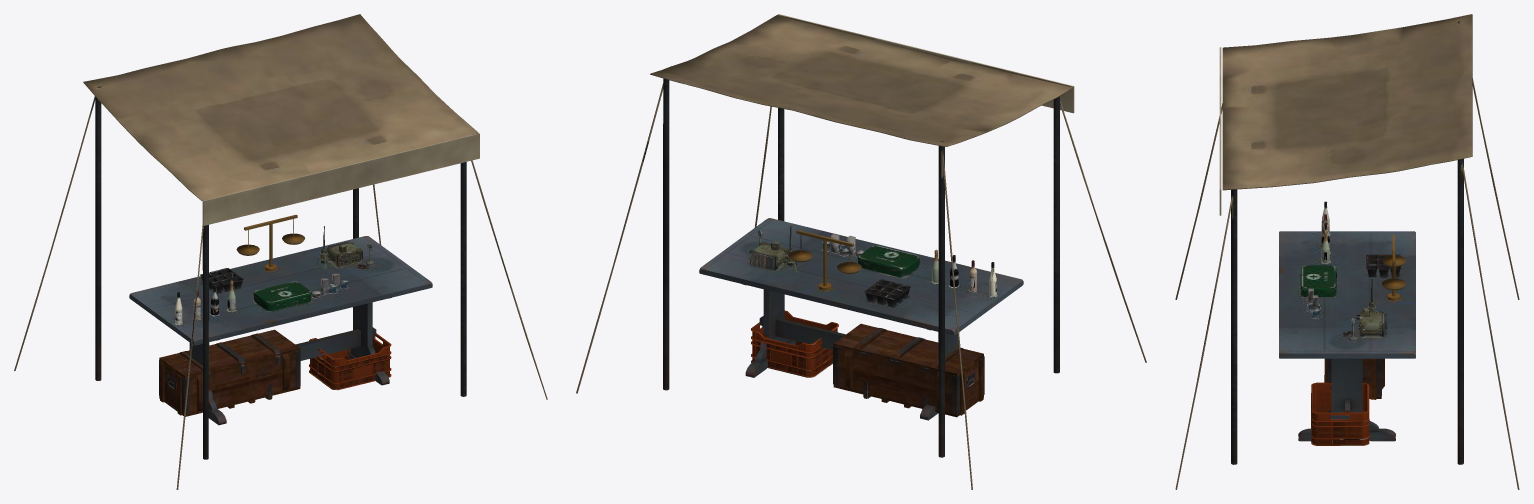
File: trade_table.glb
3 views of the same model, side by side, from view 1: azimuth 30°, elevation 25°; view 2: azimuth 150°, elevation 25°; view 3: azimuth 270°, elevation 25° (orthographic). The views are drawn at different scales.
Parts seen in each view (by area): view 1: trade_table; view 2: trade_table; view 3: trade_table.
Part boxes in pixels (left/top/right/bottom): trade_table: left=14, top=14, right=547, bottom=489; trade_table: left=576, top=14, right=1146, bottom=489; trade_table: left=1175, top=14, right=1519, bottom=489.
Size of the model in its own units: 3.11 by 2.38 by 2.37.
1 material, 1 textured.
